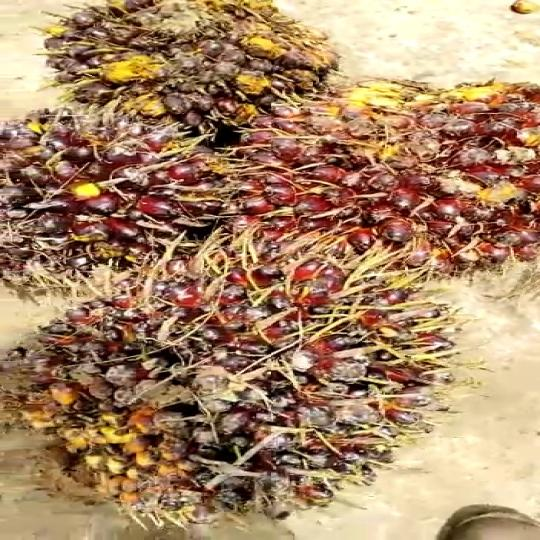kurang masak: (7, 232, 443, 512), (256, 74, 540, 276), (4, 103, 285, 280), (50, 0, 367, 133)
